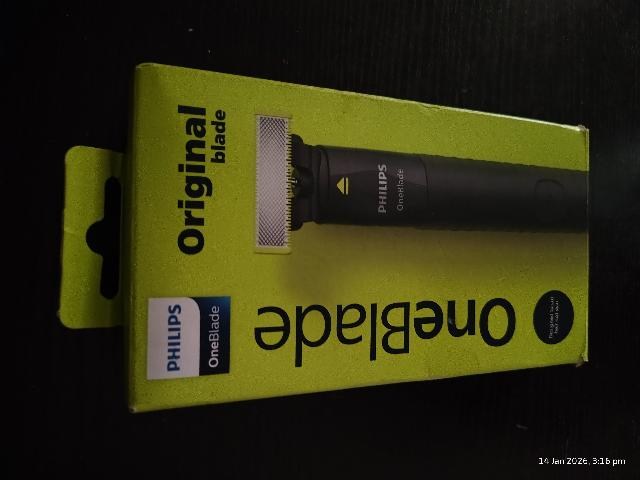phillips oneblade: (63, 62, 594, 406)
